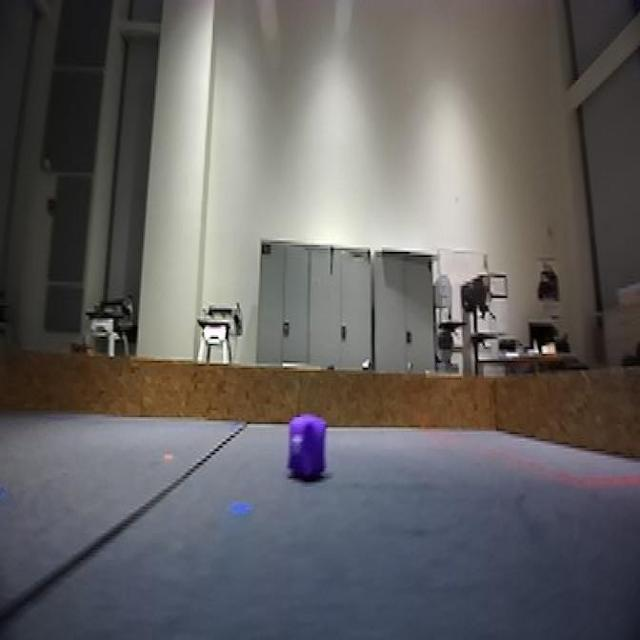frc_cube: (288, 416, 328, 484)
